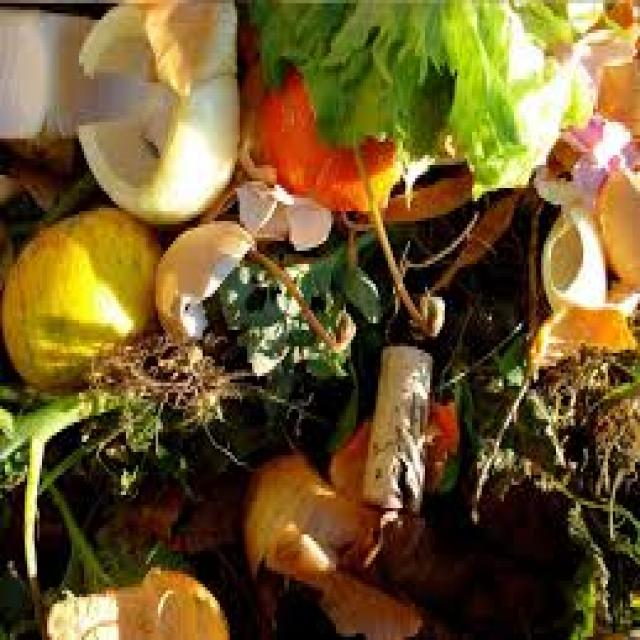food_waste: (26, 31, 616, 605)
